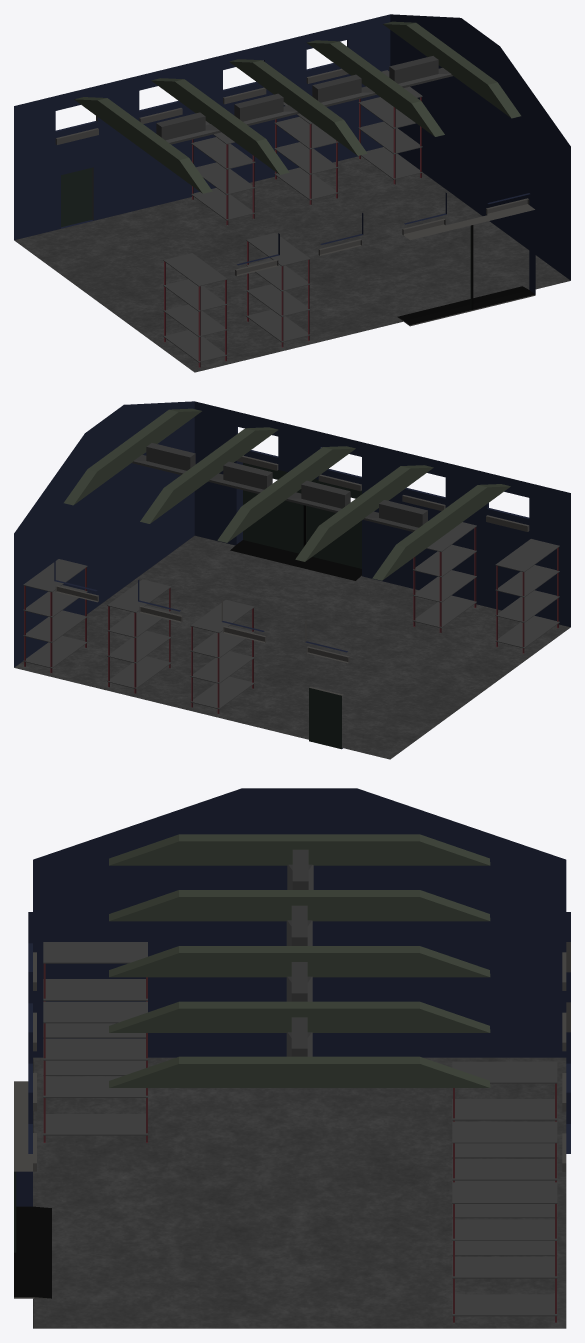
File: Warehouse.fbx
3 views of the same model, one above another, from view 1: azimuth 30°, elevation 25°; view 2: azimuth 150°, elevation 25°; view 3: azimuth 270°, elevation 25° (orthographic). The views are drawn at different scales.
Parts seen in each view (by area): view 1: MainStructure, Shelf.004, Shelf.002, Shelf, Shelf.001, Shelf.003, Rafter, Rafter.001, Rafter.003, Rafter.002, Rafter.004, LightFixture.001 (+3 smaller); view 2: MainStructure, Shelf.004, Shelf.003, Shelf, Shelf.001, Shelf.002, Rafter, Rafter.001, Rafter.003, Rafter.002, Rafter.004, LightFixture.001 (+3 smaller); view 3: MainStructure, Rafter.004, Rafter.003, Rafter.001, Rafter, Rafter.002, Shelf.003, Shelf.002, Shelf.001, Shelf.004, Shelf, LightFixture.001 (+3 smaller).
Part boxes in pixels (<box>): MainStructure: <box>14,14,570,372</box>; Shelf.004: <box>163,253,227,367</box>; Shelf.002: <box>246,233,310,347</box>; Shelf: <box>191,121,255,225</box>; Shelf.001: <box>274,102,338,205</box>; Shelf.003: <box>358,70,422,184</box>; Rafter: <box>74,97,212,193</box>; Rafter.001: <box>229,59,367,155</box>; Rafter.003: <box>151,78,289,174</box>; Rafter.002: <box>306,40,444,136</box>; Rafter.004: <box>383,21,520,118</box>; LightFixture.001: <box>234,93,299,125</box>; MainStructure: <box>14,401,570,759</box>; Shelf.004: <box>495,539,559,653</box>; Shelf.003: <box>23,559,87,673</box>; Shelf: <box>190,599,254,714</box>; Shelf.001: <box>107,579,171,694</box>; Shelf.002: <box>412,522,476,633</box>; Rafter: <box>372,484,510,580</box>; Rafter.001: <box>217,446,355,542</box>; Rafter.003: <box>295,465,433,561</box>; Rafter.002: <box>140,427,278,523</box>; Rafter.004: <box>64,408,201,505</box>; LightFixture.001: <box>285,480,350,512</box>; MainStructure: <box>14,788,570,1328</box>; Rafter.004: <box>109,1056,490,1087</box>; Rafter.003: <box>109,890,490,921</box>; Rafter.001: <box>109,946,490,977</box>; Rafter: <box>109,834,490,865</box>; Rafter.002: <box>109,1001,490,1032</box>; Shelf.003: <box>452,1182,557,1323</box>; Shelf.002: <box>43,1001,147,1142</box>; Shelf.001: <box>452,1121,557,1255</box>; Shelf.004: <box>43,942,147,1075</box>; Shelf: <box>452,1061,557,1182</box>; LightFixture.001: <box>286,905,312,945</box>.
Size of the model in its own units: 1705 by 791 by 1481.
